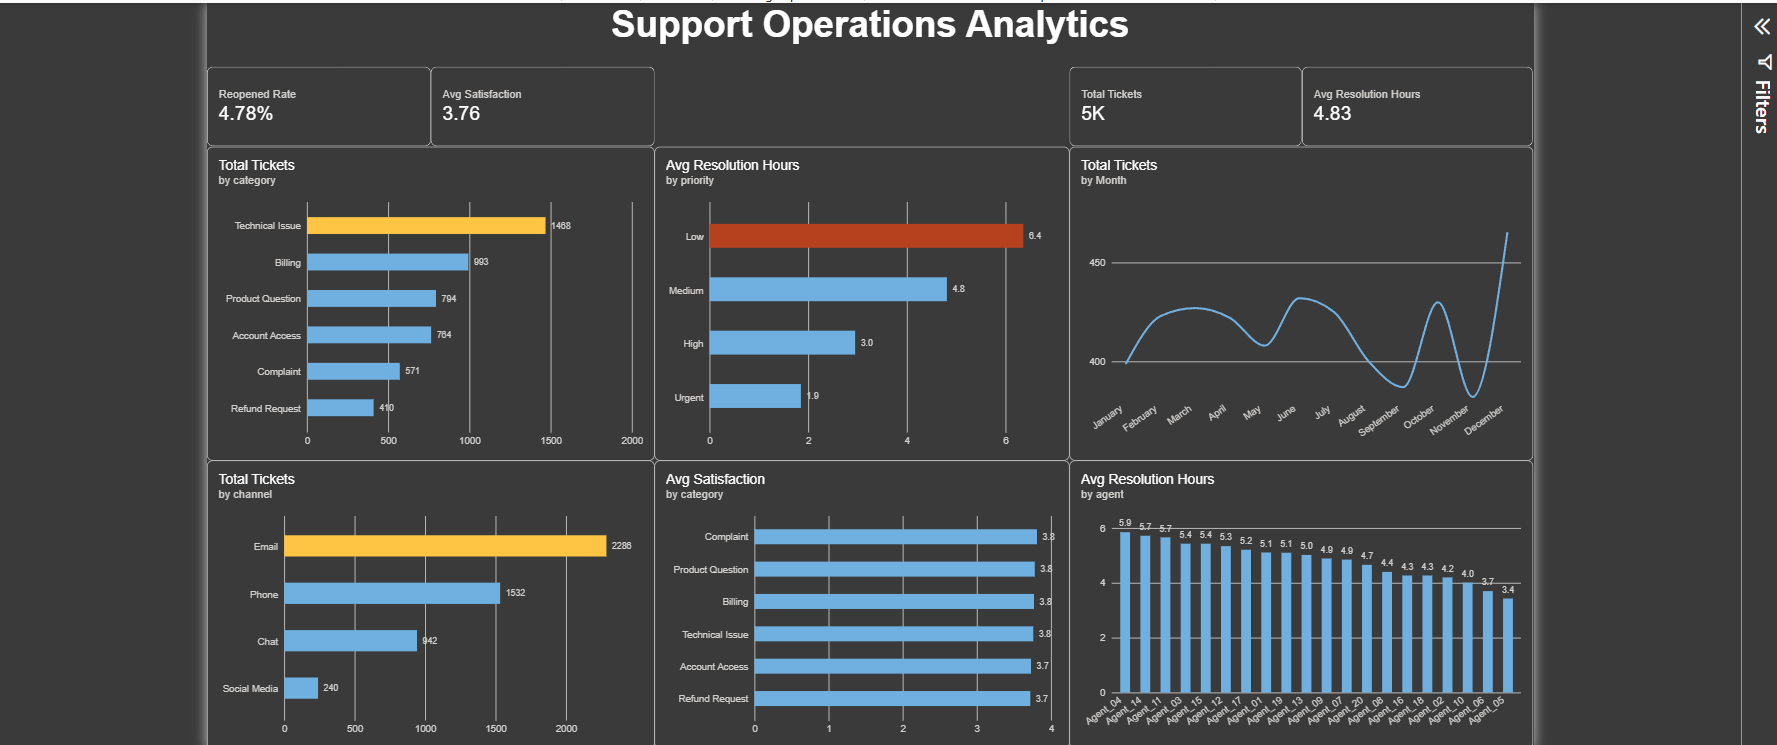

The page's visual inventory and layout, read from the dashboard file:
{"tool":"powerbi","page":{"name":"Page 1","canvas":[1920,1080],"ordinal":0},"visuals":[{"type":"cardVisual","fields":{"Data":["Data.Total Tickets"]},"box":[1249.3,92.9,336.6,115.6],"z":0},{"type":"cardVisual","fields":{"Data":["Data.Avg Resolution Hours"]},"box":[1585.9,92.9,334.5,115.6],"z":1000},{"type":"cardVisual","fields":{"Data":["Data.Avg Satisfaction"]},"box":[324.2,92.9,324.2,115.6],"z":2000},{"type":"cardVisual","fields":{"Data":["Data.Reopened Rate"]},"box":[0,92.9,324.2,115.6],"z":3000},{"type":"clusteredBarChart","fields":{"Category":["Data.category"],"Y":["Data.Total Tickets"]},"box":[0,208.6,648.4,454.3],"z":4000},{"type":"clusteredBarChart","fields":{"Category":["Data.channel"],"Y":["Data.Total Tickets"]},"box":[0,662.9,648.4,417.1],"z":5000},{"type":"clusteredBarChart","fields":{"Category":["Data.priority"],"Y":["Data.Avg Resolution Hours"]},"box":[648.4,208.6,600.9,454.3],"z":6000},{"type":"columnChart","fields":{"Category":["Data.agent"],"Y":["Data.Avg Resolution Hours"]},"box":[1249.3,662.9,671.1,417.1],"z":7000},{"type":"clusteredBarChart","fields":{"Category":["Data.category"],"Y":["Data.Avg Satisfaction"]},"box":[648.4,662.9,600.9,417.1],"z":8000},{"type":"lineChart","fields":{"Category":["Data.month.Variation.Date Hierarchy.Month"],"Y":["Data.Total Tickets"]},"box":[1249.3,208.6,671.1,454.3],"z":9000},{"type":"textbox","box":[0,0,1920.4,76.4],"z":10000}]}

Visuals, with their boxes on the page's 1920x1080 design canvas (x1, y1, x2, y2). These are canvas units, not pixel positions in the 1777x745 screenshot, which may show the page scaled, cropped or inside an application window:
cardVisual - Data.Total Tickets: 1249:93:1586:208
cardVisual - Data.Avg Resolution Hours: 1586:93:1920:208
cardVisual - Data.Avg Satisfaction: 324:93:648:208
cardVisual - Data.Reopened Rate: 0:93:324:208
clusteredBarChart - Data.category x Data.Total Tickets: 0:209:648:663
clusteredBarChart - Data.channel x Data.Total Tickets: 0:663:648:1080
clusteredBarChart - Data.priority x Data.Avg Resolution Hours: 648:209:1249:663
columnChart - Data.agent x Data.Avg Resolution Hours: 1249:663:1920:1080
clusteredBarChart - Data.category x Data.Avg Satisfaction: 648:663:1249:1080
lineChart - Data.month.Variation.Date Hierarchy.Month x Data.Total Tickets: 1249:209:1920:663
textbox: 0:0:1920:76
